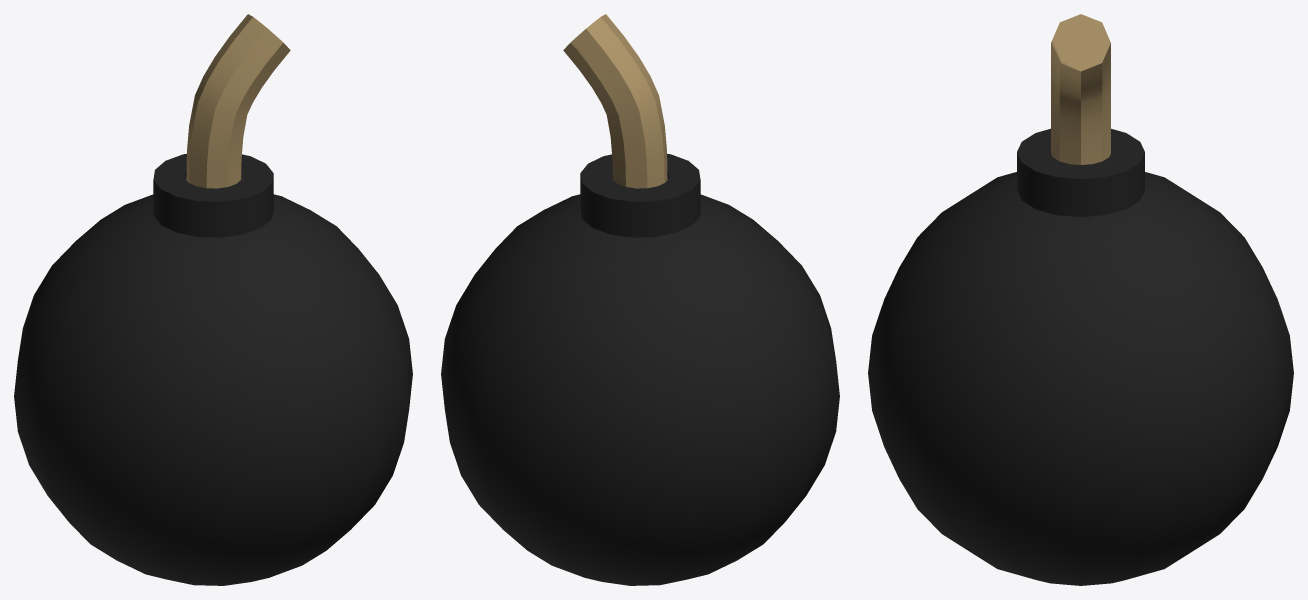
File: Bomb.fbx
The picture shows the model from 3 angles, left to right: view 1: azimuth 30°, elevation 25°; view 2: azimuth 150°, elevation 25°; view 3: azimuth 270°, elevation 25°; orthographic projection. The views are drawn at different scales.
Visible parts, largest first — view 1: Bomb; view 2: Bomb; view 3: Bomb.
Part boxes in pixels (<box>): Bomb: <box>14,14,412,585</box>; Bomb: <box>441,14,839,585</box>; Bomb: <box>868,14,1293,585</box>.
Bounding box in the file's own units: 48.48 × 71.93 × 48.48.
Materials: 1 (1 with a texture image).
